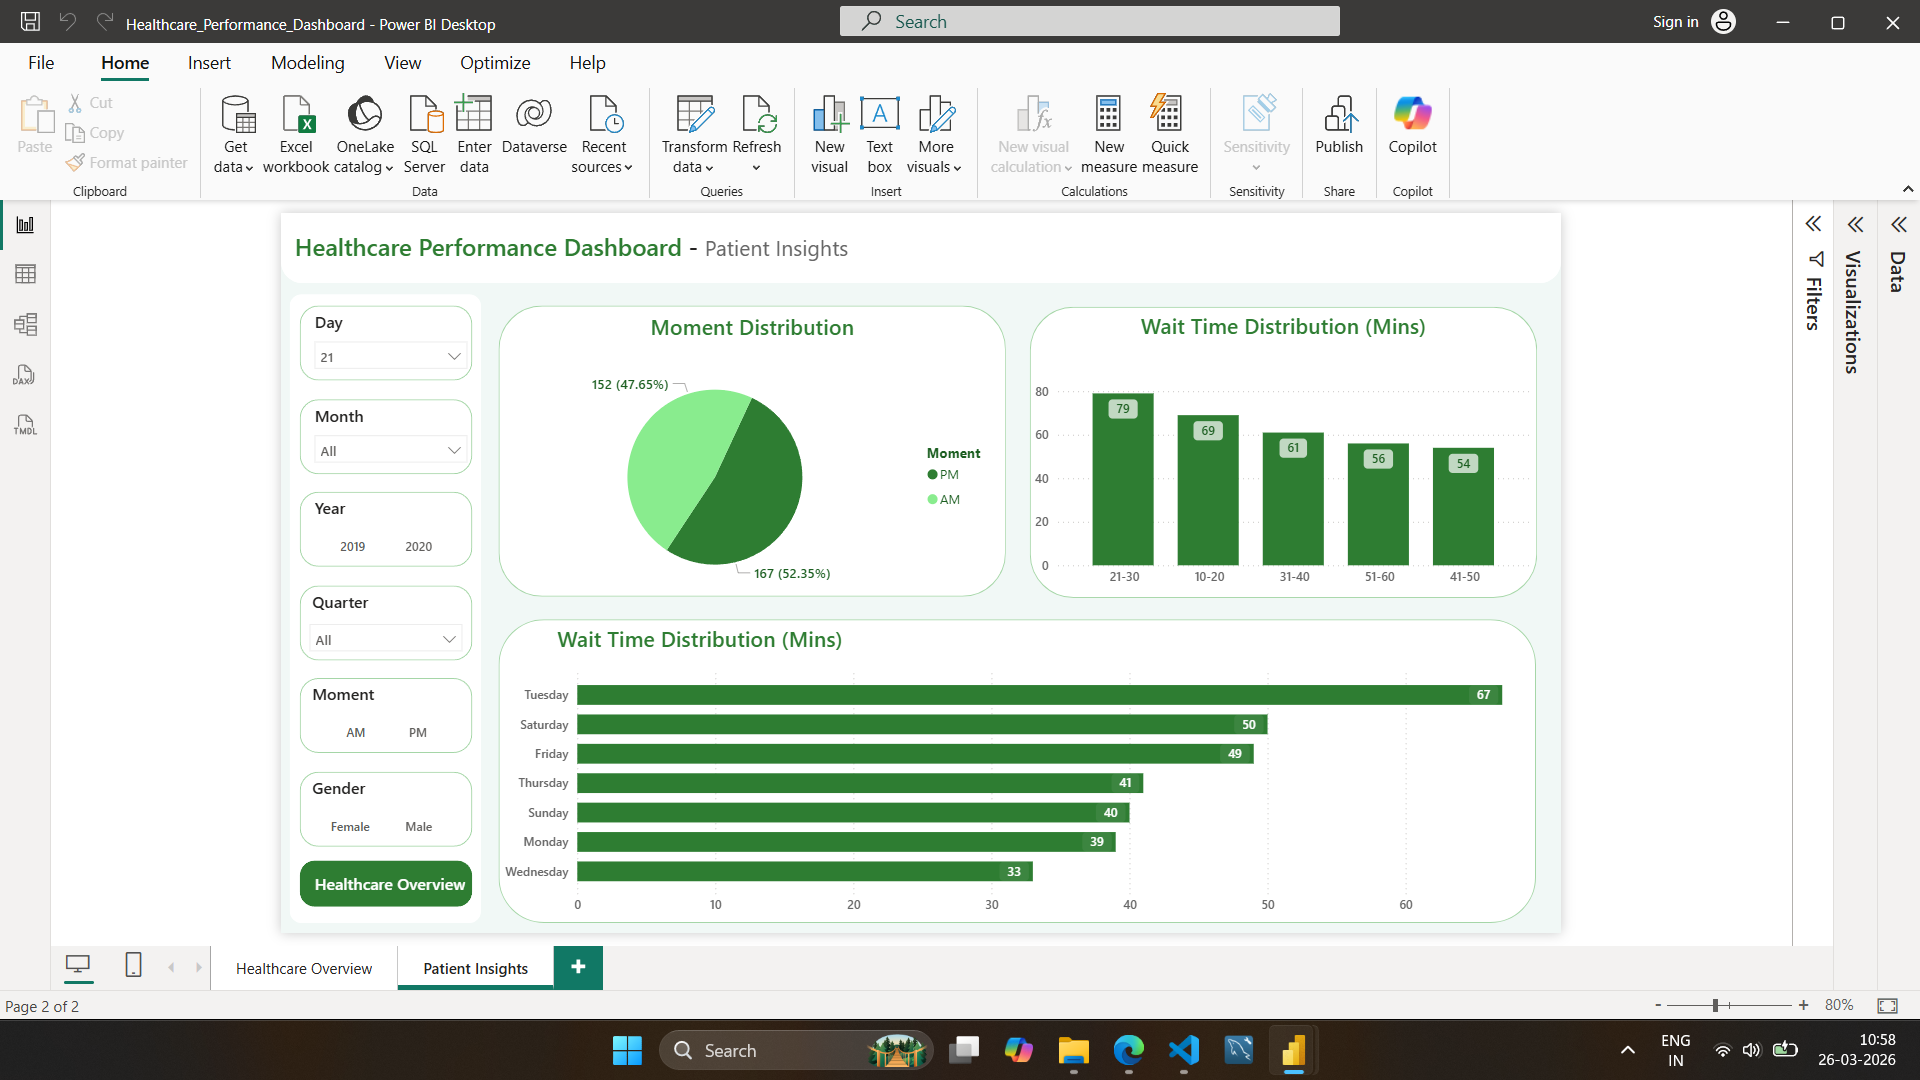

What the dashboard file says about the page in this screenshot:
{"tool":"powerbi","page":{"name":"Patient Insights","canvas":[1280,720],"ordinal":1},"visuals":[{"type":"shape","box":[0,0,1280,70],"z":0},{"type":"shape","box":[18.8,185.8,172.5,75],"z":0,"group":"g2"},{"type":"shape","box":[18.8,279,172.5,75],"z":0,"group":"g6"},{"type":"shape","box":[18.8,372.2,172.5,75],"z":0,"group":"g3"},{"type":"shape","box":[18.8,465.5,172.5,75],"z":0,"group":"g4"},{"type":"shape","box":[18.7,558.8,172.5,75],"z":0,"group":"g5"},{"type":"textbox","box":[8.8,12.5,605,45],"z":1000},{"type":"slicer","fields":{"Values":["date_time_table.Month"]},"box":[28.8,217.3,162.5,41.2],"z":1000,"group":"g2"},{"type":"slicer","fields":{"Values":["date_time_table.Year"]},"box":[19.1,312.4,170,41.2],"z":1000,"group":"g6"},{"type":"slicer","fields":{"Values":["date_time_table.Quarter"]},"box":[23.8,406,162.5,41.2],"z":1000,"group":"g3"},{"type":"slicer","fields":{"Values":["date_time_table.Moment"]},"box":[23.8,499.3,162.5,41.2],"z":1000,"group":"g4"},{"type":"slicer","fields":{"Values":["patient_table.Patient_Gender"]},"box":[15.2,592.9,175,41.2],"z":1000,"group":"g5"},{"type":"shape","box":[8.8,81.2,191.2,628.8],"z":2000},{"type":"textbox","box":[28.8,185.8,76.2,33.8],"z":2000,"group":"g2"},{"type":"textbox","box":[28.8,279,76.2,33.8],"z":2000,"group":"g6"},{"type":"textbox","box":[26.8,372.2,76.2,33.8],"z":2000,"group":"g3"},{"type":"textbox","box":[26.8,465.5,76.2,33.8],"z":2000,"group":"g4"},{"type":"textbox","box":[26.7,558.8,76.2,33.8],"z":2000,"group":"g5"},{"type":"group","id":"g1","title":"Group 6","box":[18.8,92.5,172.5,75],"z":3000},{"type":"group","id":"g2","title":"Group 7","box":[18.8,185.8,172.5,75],"z":4000},{"type":"group","id":"g3","title":"Group 9","box":[18.8,372.2,172.5,75],"z":5000},{"type":"group","id":"g4","title":"Group 9","box":[18.8,465.5,172.5,75],"z":6000},{"type":"group","id":"g5","title":"Group 9","box":[15.2,558.8,176,75.3],"z":7000},{"type":"shape","box":[18.8,92.5,172.5,75],"z":8000,"group":"g1"},{"type":"group","id":"g6","title":"Group 7","box":[18.8,279,172.5,75],"z":8000},{"type":"shape","box":[217.5,92.5,507.5,291.2],"z":9000,"group":"g7"},{"type":"shape","box":[748.8,93.8,507.5,291.2],"z":9000},{"type":"slicer","fields":{"Values":["date_time_table.Day"]},"box":[28.8,123.7,162.5,41.2],"z":9000,"group":"g1"},{"type":"textbox","box":[28.8,92.5,56.2,33.8],"z":10000,"group":"g1"},{"type":"pieChart","fields":{"Y":["CountNonNull(date_time_table.Moment)"],"Category":["date_time_table.Moment"]},"box":[217.5,145,506.2,238.8],"z":10000,"group":"g7"},{"type":"lineStackedColumnComboChart","fields":{"Category":["date_time_table.Wait_Time_Bucket"],"Y":["CountNonNull(date_time_table.Wait_Time_Bucket)"]},"box":[748.8,145,506.2,237.5],"z":10000},{"type":"textbox","box":[748.8,92.5,507.5,52.5],"z":11000},{"type":"textbox","box":[217.5,93.7,507.5,51.2],"z":11000,"group":"g7"},{"type":"shape","box":[217.5,406.2,1037.5,303.8],"z":12000},{"type":"clusteredBarChart","fields":{"Category":["date_time_table.Day_Of_Week"],"Y":["CountNonNull(date_time_table.Day_Of_Week)"]},"box":[217.5,447.5,1037.5,262.5],"z":13000},{"type":"textbox","box":[271.2,406.2,876.2,41.2],"z":14000},{"type":"group","id":"g7","title":"Group 1","box":[217.5,92.5,507.5,291.2],"z":15000},{"type":"actionButton","title":"Patient Insights","box":[18.8,647.5,172.5,46.2],"z":16000}]}

Visuals, with their boxes on the page's 1280x720 design canvas (x1, y1, x2, y2). These are canvas units, not pixel positions in the 1920x1080 screenshot, which may show the page scaled, cropped or inside an application window:
shape: [x1=0, y1=0, x2=1280, y2=70]
shape: [x1=19, y1=186, x2=191, y2=261]
shape: [x1=19, y1=279, x2=191, y2=354]
shape: [x1=19, y1=372, x2=191, y2=447]
shape: [x1=19, y1=466, x2=191, y2=540]
shape: [x1=19, y1=559, x2=191, y2=634]
textbox: [x1=9, y1=12, x2=614, y2=58]
slicer - date_time_table.Month: [x1=29, y1=217, x2=191, y2=258]
slicer - date_time_table.Year: [x1=19, y1=312, x2=189, y2=354]
slicer - date_time_table.Quarter: [x1=24, y1=406, x2=186, y2=447]
slicer - date_time_table.Moment: [x1=24, y1=499, x2=186, y2=540]
slicer - patient_table.Patient_Gender: [x1=15, y1=593, x2=190, y2=634]
shape: [x1=9, y1=81, x2=200, y2=710]
textbox: [x1=29, y1=186, x2=105, y2=220]
textbox: [x1=29, y1=279, x2=105, y2=313]
textbox: [x1=27, y1=372, x2=103, y2=406]
textbox: [x1=27, y1=466, x2=103, y2=499]
textbox: [x1=27, y1=559, x2=103, y2=593]
"Group 6" group: [x1=19, y1=92, x2=191, y2=168]
"Group 7" group: [x1=19, y1=186, x2=191, y2=261]
"Group 9" group: [x1=19, y1=372, x2=191, y2=447]
"Group 9" group: [x1=19, y1=466, x2=191, y2=540]
"Group 9" group: [x1=15, y1=559, x2=191, y2=634]
shape: [x1=19, y1=92, x2=191, y2=168]
"Group 7" group: [x1=19, y1=279, x2=191, y2=354]
shape: [x1=218, y1=92, x2=725, y2=384]
shape: [x1=749, y1=94, x2=1256, y2=385]
slicer - date_time_table.Day: [x1=29, y1=124, x2=191, y2=165]
textbox: [x1=29, y1=92, x2=85, y2=126]
pieChart - CountNonNull(date_time_table.Moment) x date_time_table.Moment: [x1=218, y1=145, x2=724, y2=384]
lineStackedColumnComboChart - date_time_table.Wait_Time_Bucket x CountNonNull(date_time_table.Wait_Time_Bucket): [x1=749, y1=145, x2=1255, y2=382]
textbox: [x1=749, y1=92, x2=1256, y2=145]
textbox: [x1=218, y1=94, x2=725, y2=145]
shape: [x1=218, y1=406, x2=1255, y2=710]
clusteredBarChart - date_time_table.Day_Of_Week x CountNonNull(date_time_table.Day_Of_Week): [x1=218, y1=448, x2=1255, y2=710]
textbox: [x1=271, y1=406, x2=1147, y2=447]
"Group 1" group: [x1=218, y1=92, x2=725, y2=384]
"Patient Insights" actionButton: [x1=19, y1=648, x2=191, y2=694]
